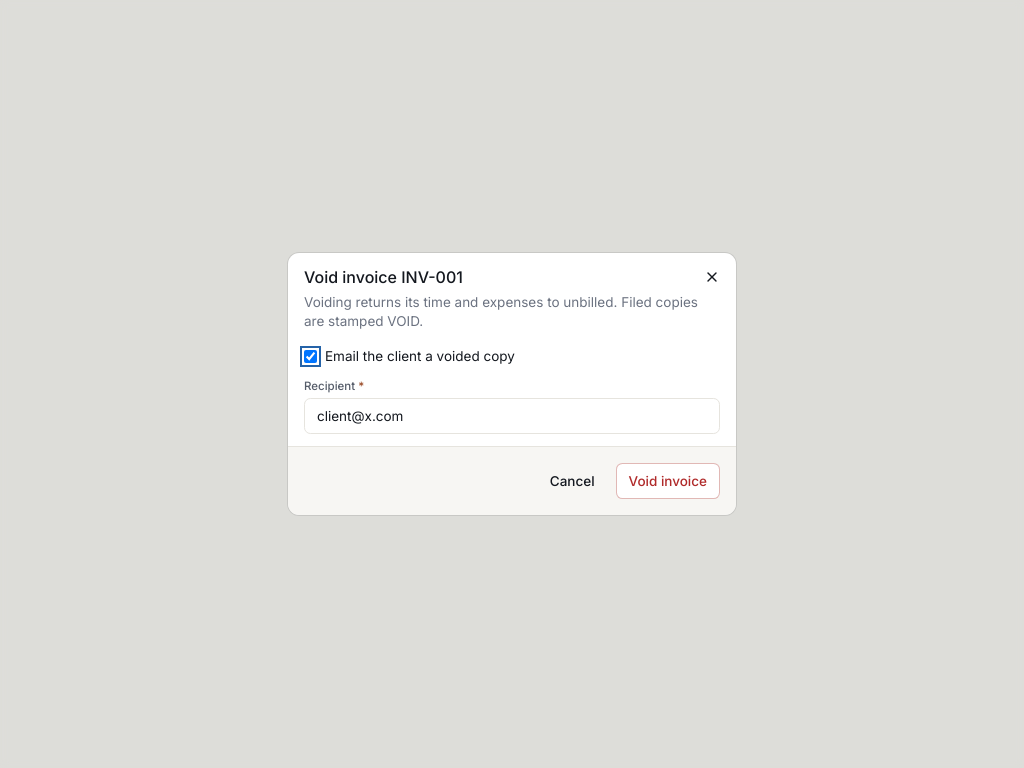
Test: VoidInvoiceDialog › an error result shows the message and stays open
Click the button "Void invoice".
click(668, 481)  # box [616,463,720,499]
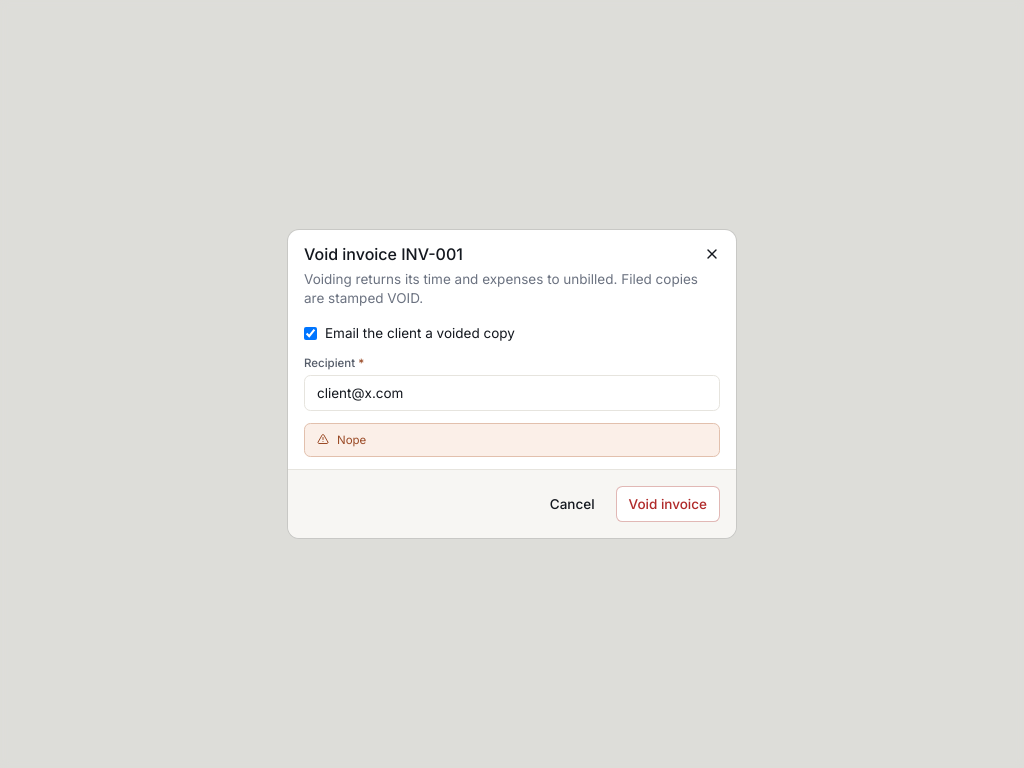
Expected: the text "Nope" is shown, [337,432,366,448]
